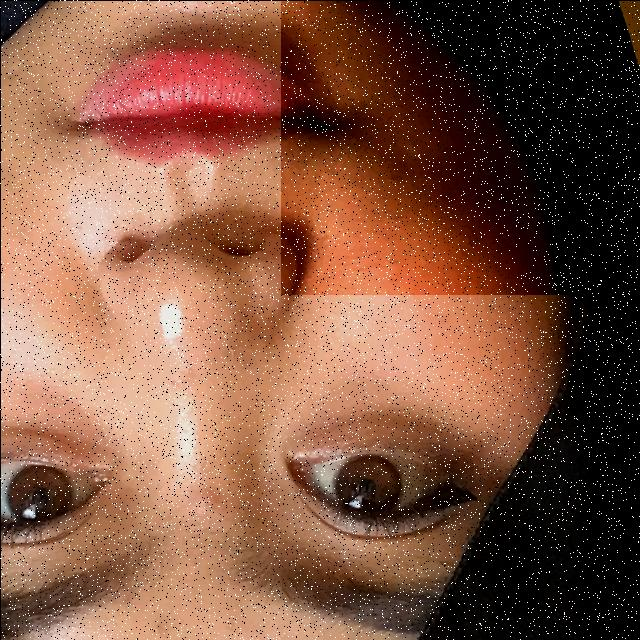kapan: (280, 0, 640, 294)
